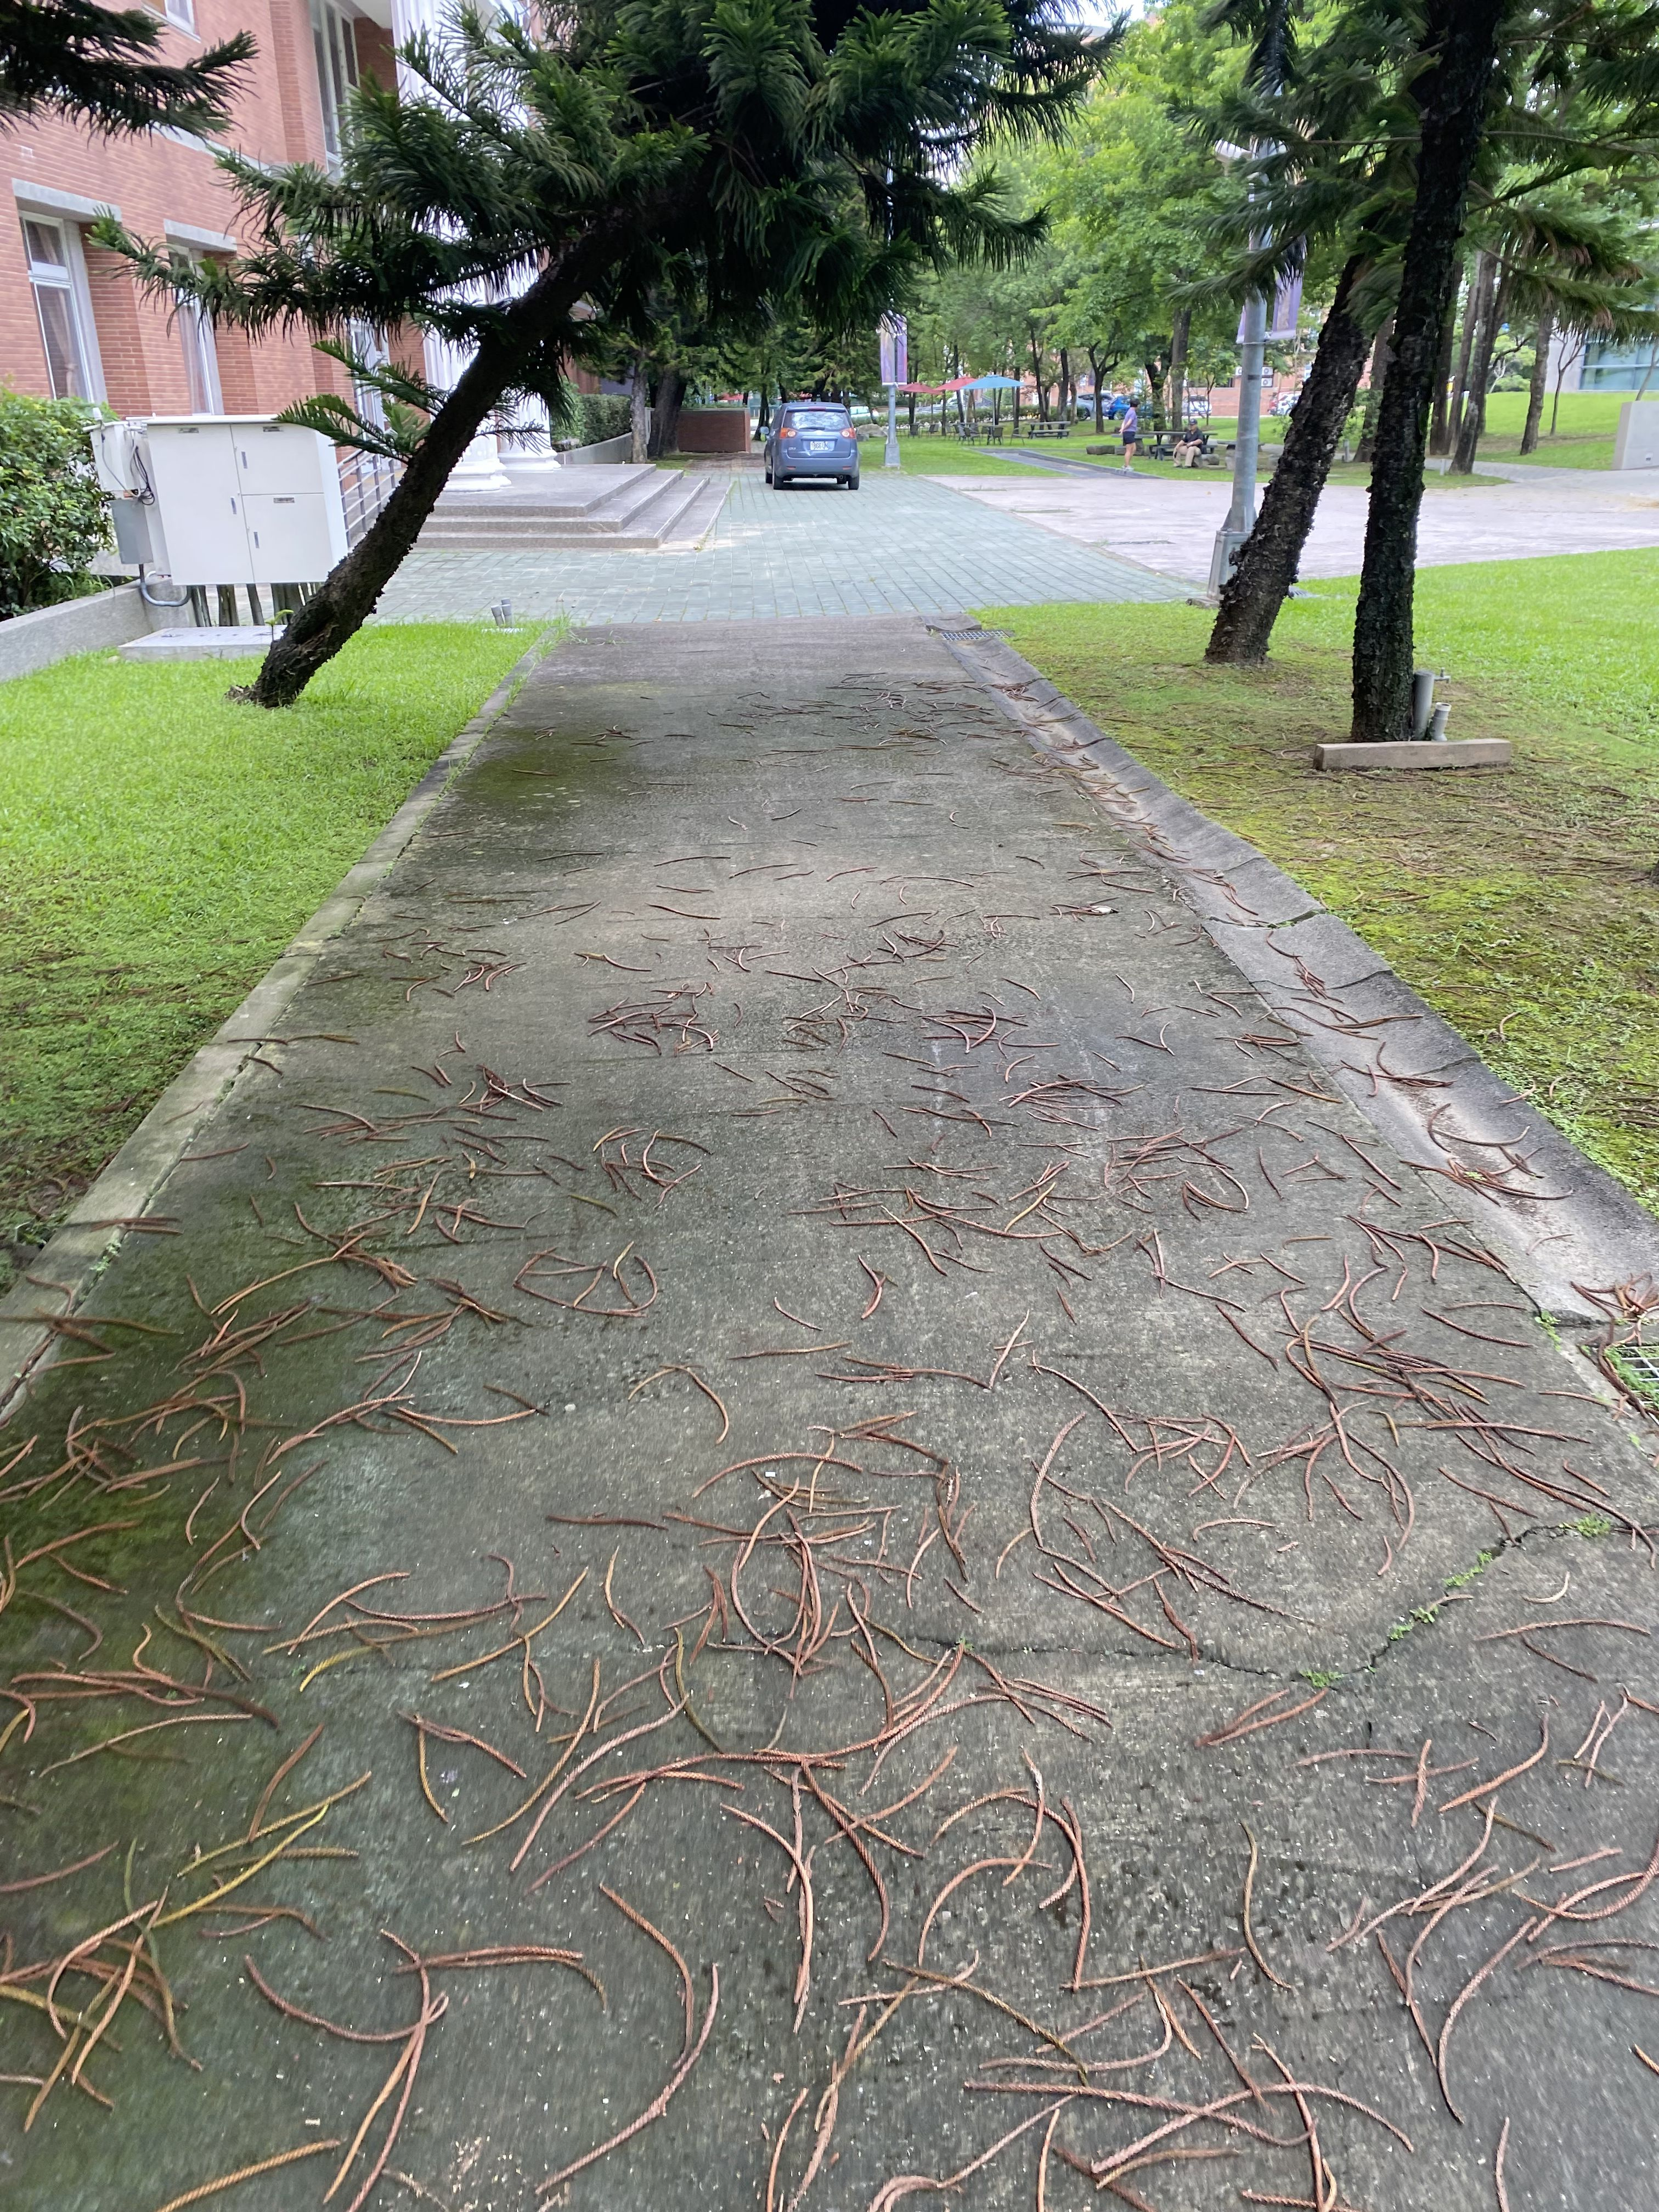0: (537, 437, 1183, 772)
sidewalk: (10, 604, 1659, 2212)
